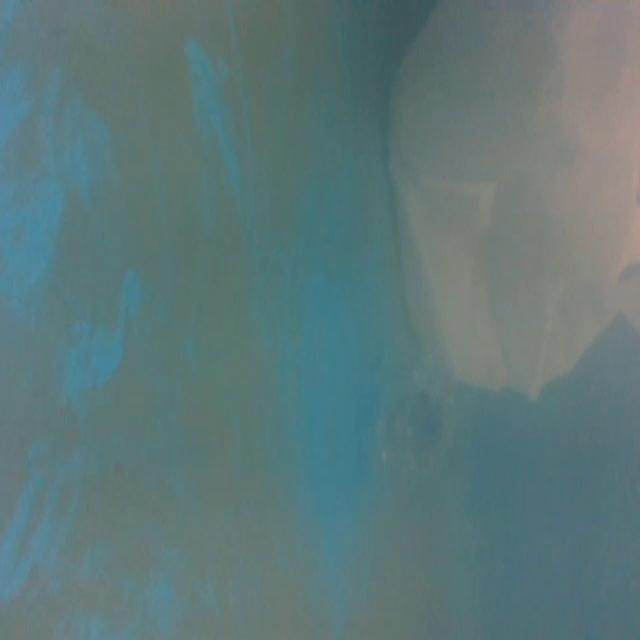plastic bags: (378, 2, 640, 401)
